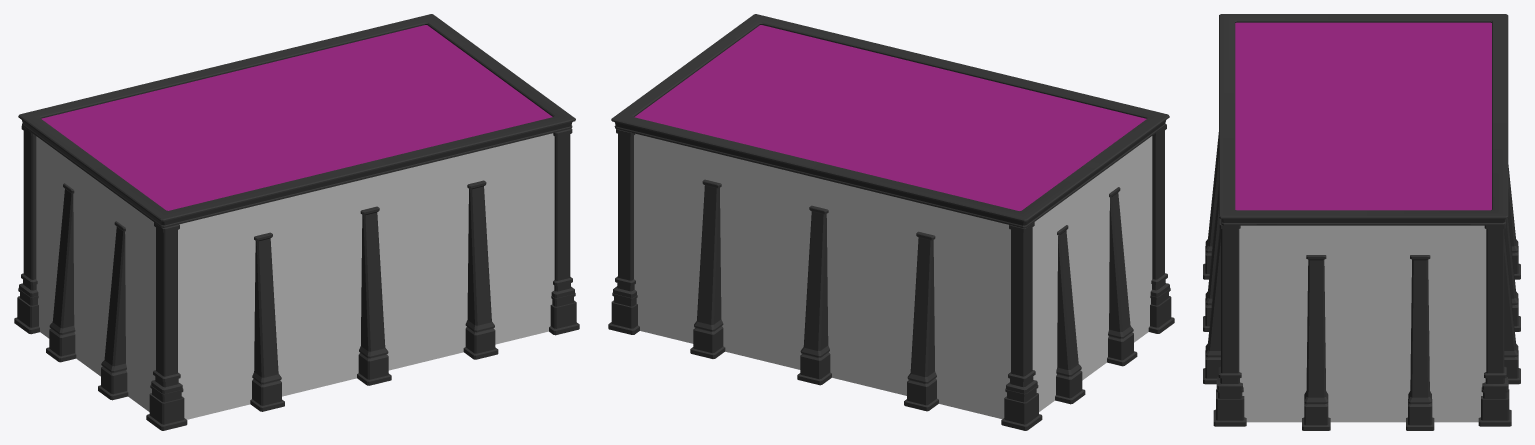
The model's file is SM_platform_01.fbx.
The picture shows the model from 3 angles, left to right: view 1: azimuth 30°, elevation 25°; view 2: azimuth 150°, elevation 25°; view 3: azimuth 270°, elevation 25°; orthographic projection.
Parts seen in each view (by area): view 1: Box369; view 2: Box369; view 3: Box369.
Part boxes in pixels (x1,y1,x2,y2): Box369: (14,14,579,430); Box369: (608,14,1174,430); Box369: (1203,14,1520,430).
Bounding box in the file's own units: 1067 × 491 × 675.
